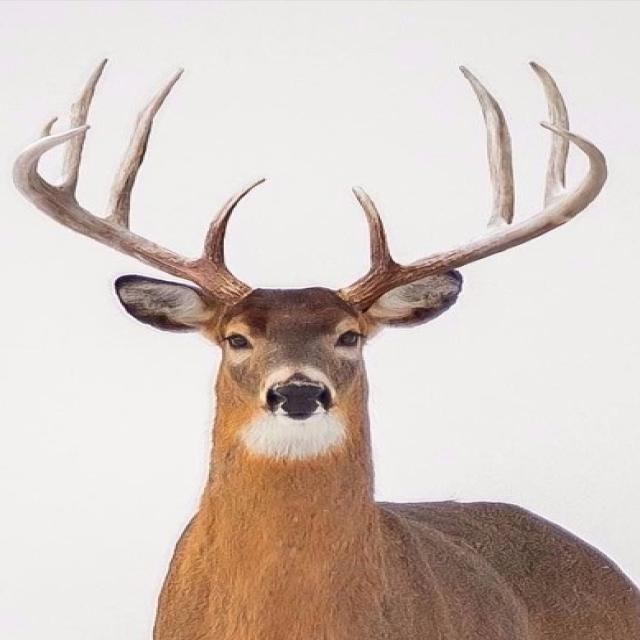E1: (40, 116, 59, 138)
L-F: (339, 121, 608, 311)
L-G1: (351, 185, 396, 273)
L-G2: (457, 64, 515, 227)
R-F: (14, 123, 251, 303)
R-G1: (202, 177, 268, 265)
R-G2: (107, 66, 185, 230)
